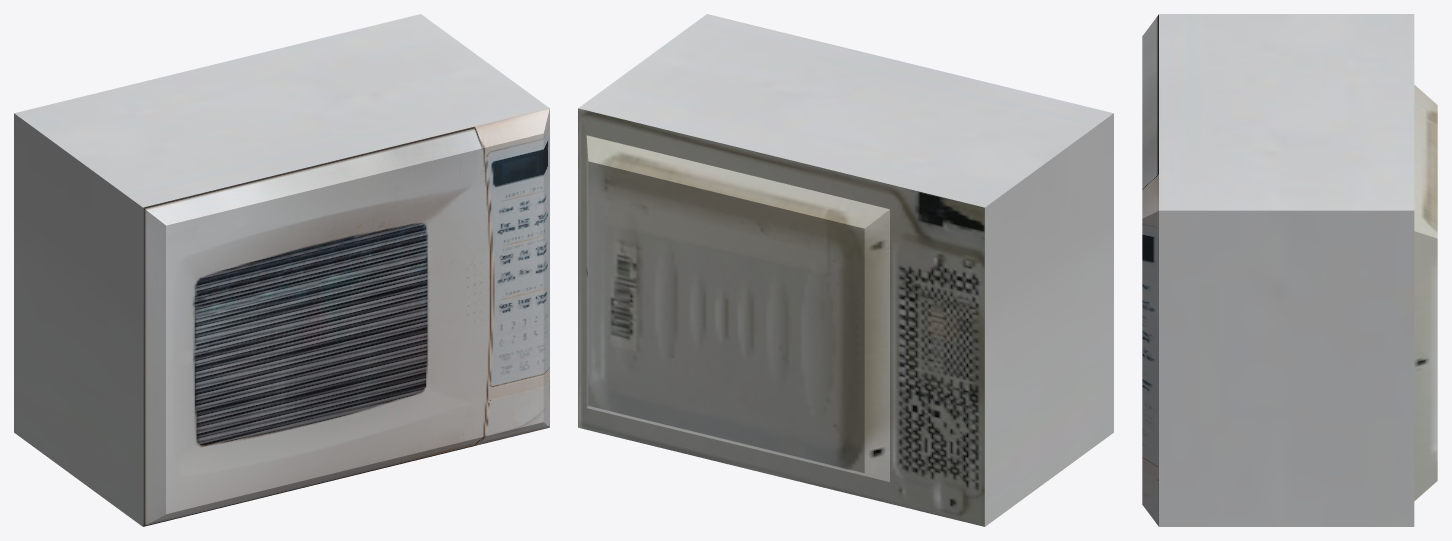
Rendered from Microwave.fbx_Scene.fbx.
The picture shows the model from 3 angles, left to right: view 1: azimuth 30°, elevation 25°; view 2: azimuth 150°, elevation 25°; view 3: azimuth 270°, elevation 25°; orthographic projection.
Parts seen in each view (by area): view 1: Microwave; view 2: Microwave; view 3: Microwave.
Boxes of the visible parts, x1,y1,x2,y2 form: Microwave: (14, 14, 549, 526); Microwave: (578, 14, 1113, 526); Microwave: (1142, 14, 1437, 526).
Bounding box in the file's own units: 60 × 45 × 38.08.
Materials: 2 (2 with a texture image).
